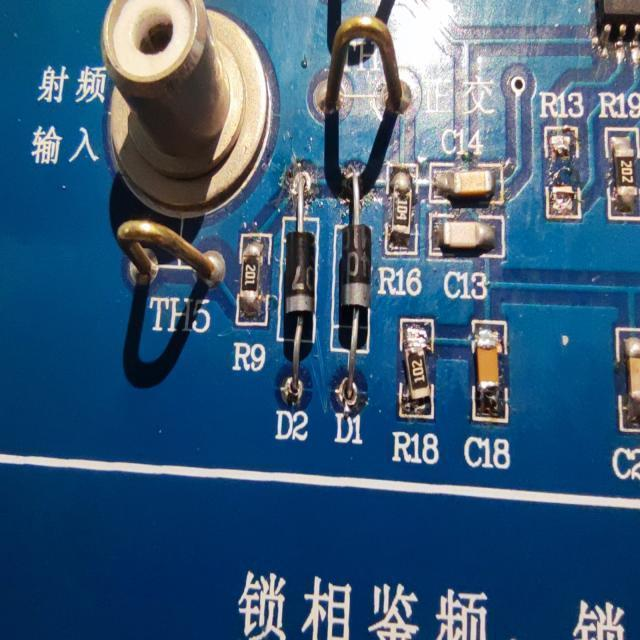Missing component: (538, 84, 588, 228)
